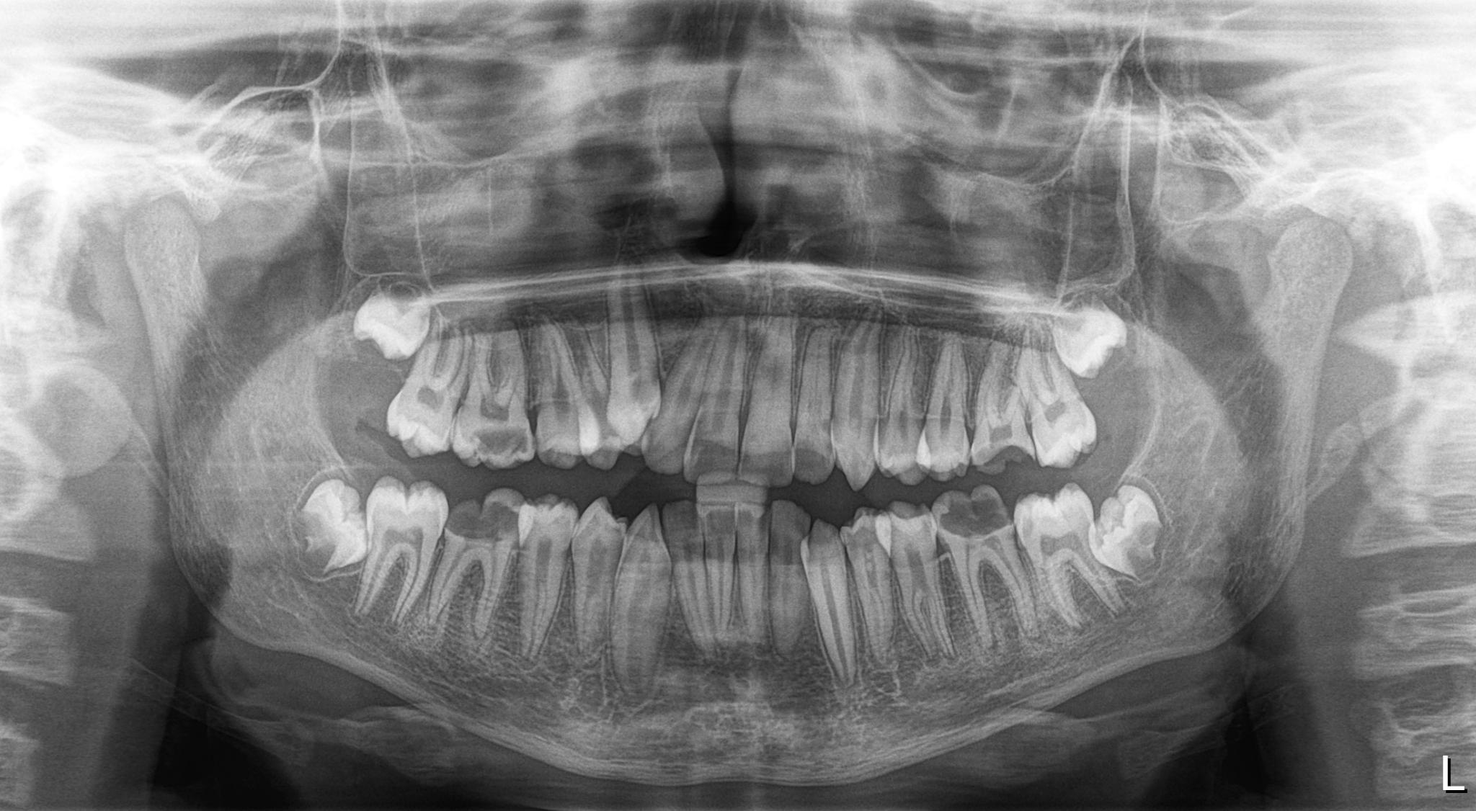Dental Caries: (450, 495, 527, 550), (933, 490, 1010, 540), (966, 436, 1046, 474), (465, 427, 537, 467)
Impacted Third Molar: (1047, 297, 1151, 380), (285, 481, 368, 579), (1094, 484, 1167, 585), (351, 275, 435, 357)
